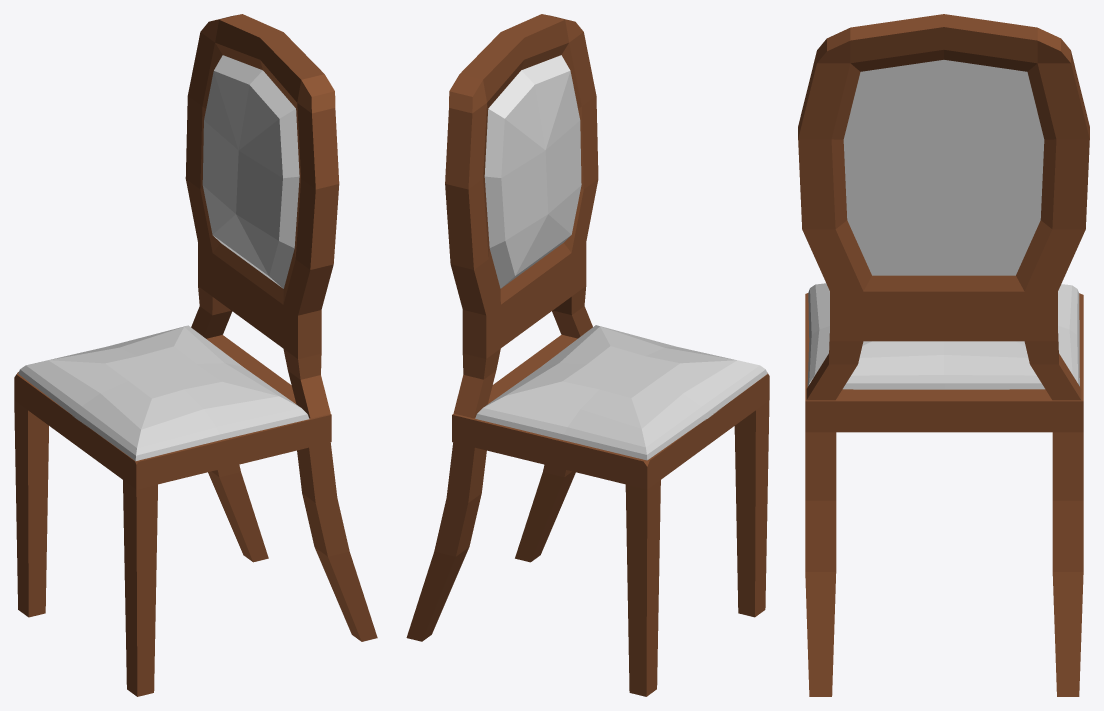
Rendered from chairwooddetailed01.gltf.
3 renders of one model, left to right at view 1: azimuth 30°, elevation 25°; view 2: azimuth 150°, elevation 25°; view 3: azimuth 270°, elevation 25°, orthographic. The views are drawn at different scales.
Parts seen in each view (by area): view 1: Cube.001; view 2: Cube.001; view 3: Cube.001.
Boxes of the visible parts, x1,y1,x2,y2 form: Cube.001: [14, 14, 377, 696]; Cube.001: [406, 14, 769, 696]; Cube.001: [798, 14, 1089, 696].
Bounding box in the file's own units: 0.5469 × 1.23 × 0.4989.
Materials: 1 (1 with a texture image).
